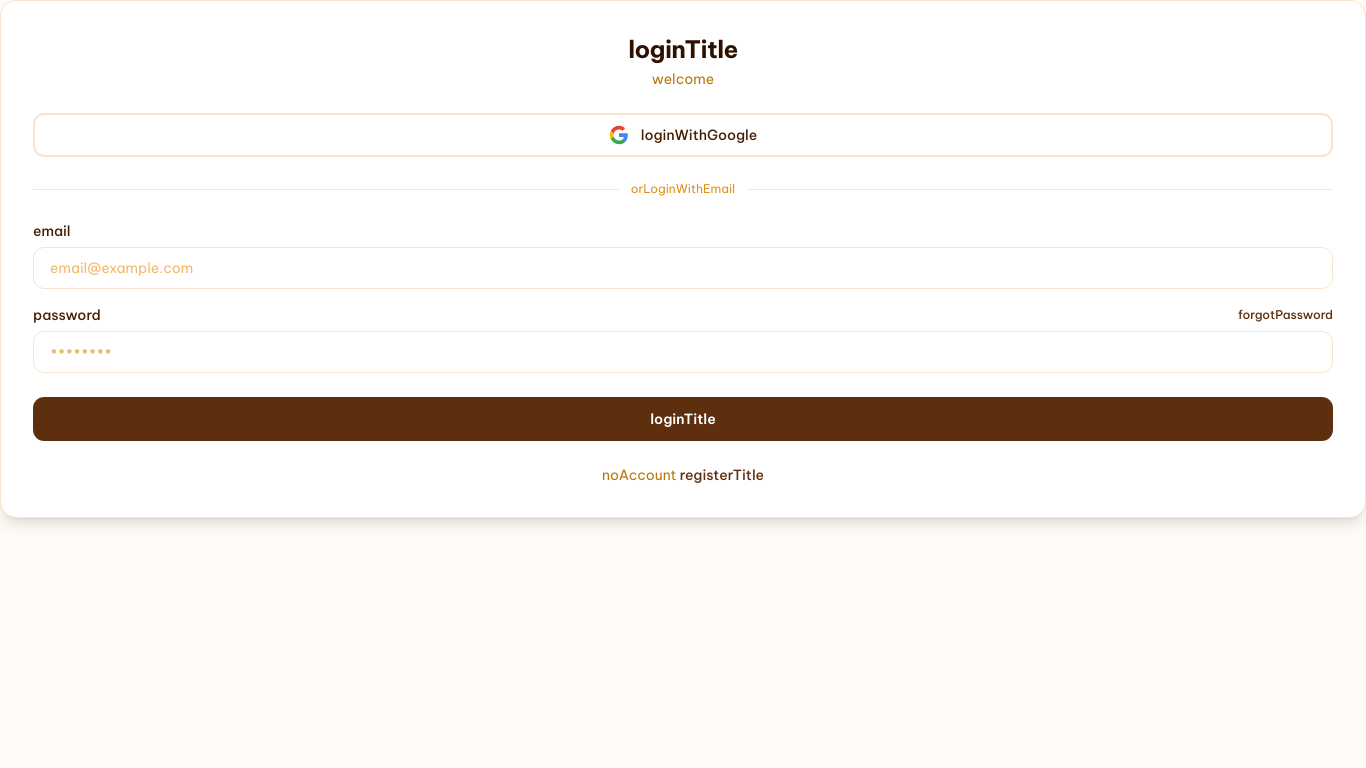
Test: LoginPage — Validation › hiển thị lỗi khi chỉ điền email, bỏ trống password
Type "test@example.com" into the field labelled "email" at (683, 268), box [33, 247, 1333, 289]
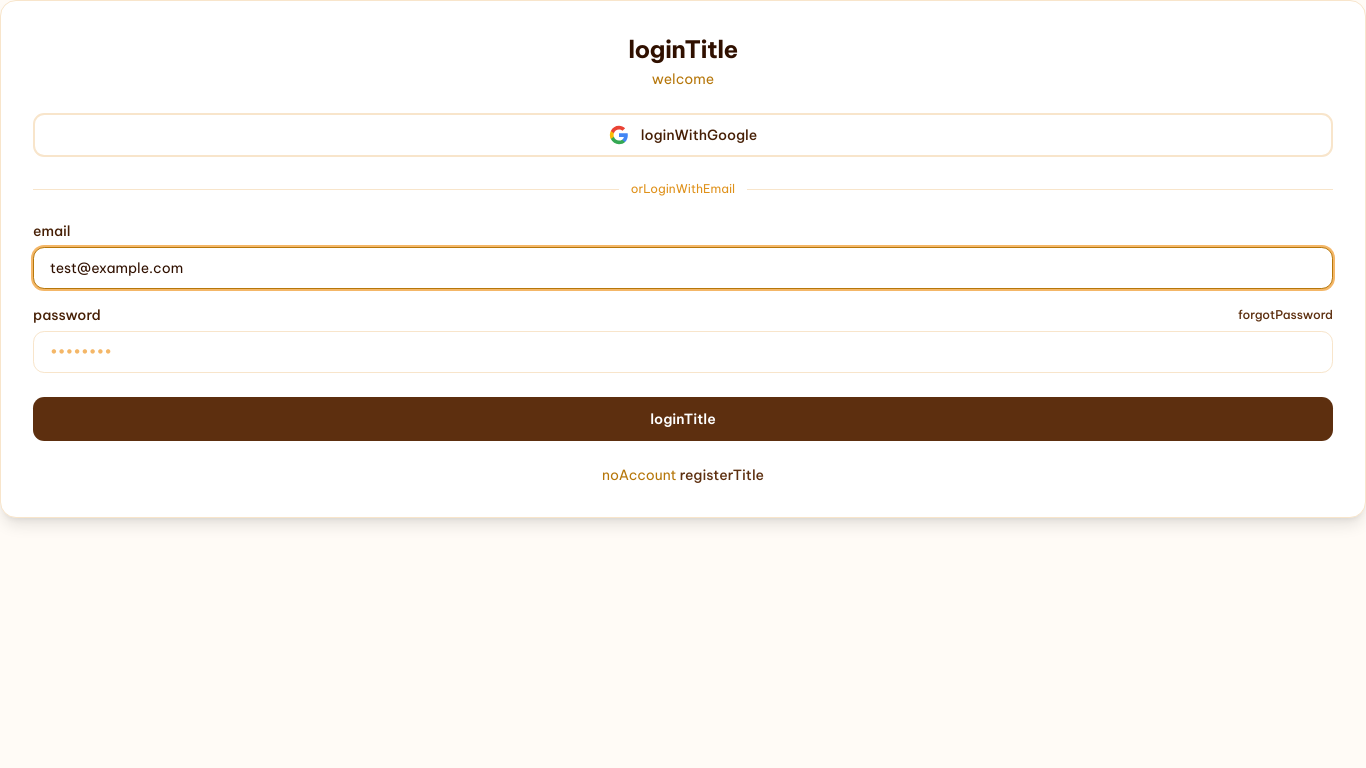
Click the button "loginTitle" at (683, 419), box [33, 397, 1333, 441]
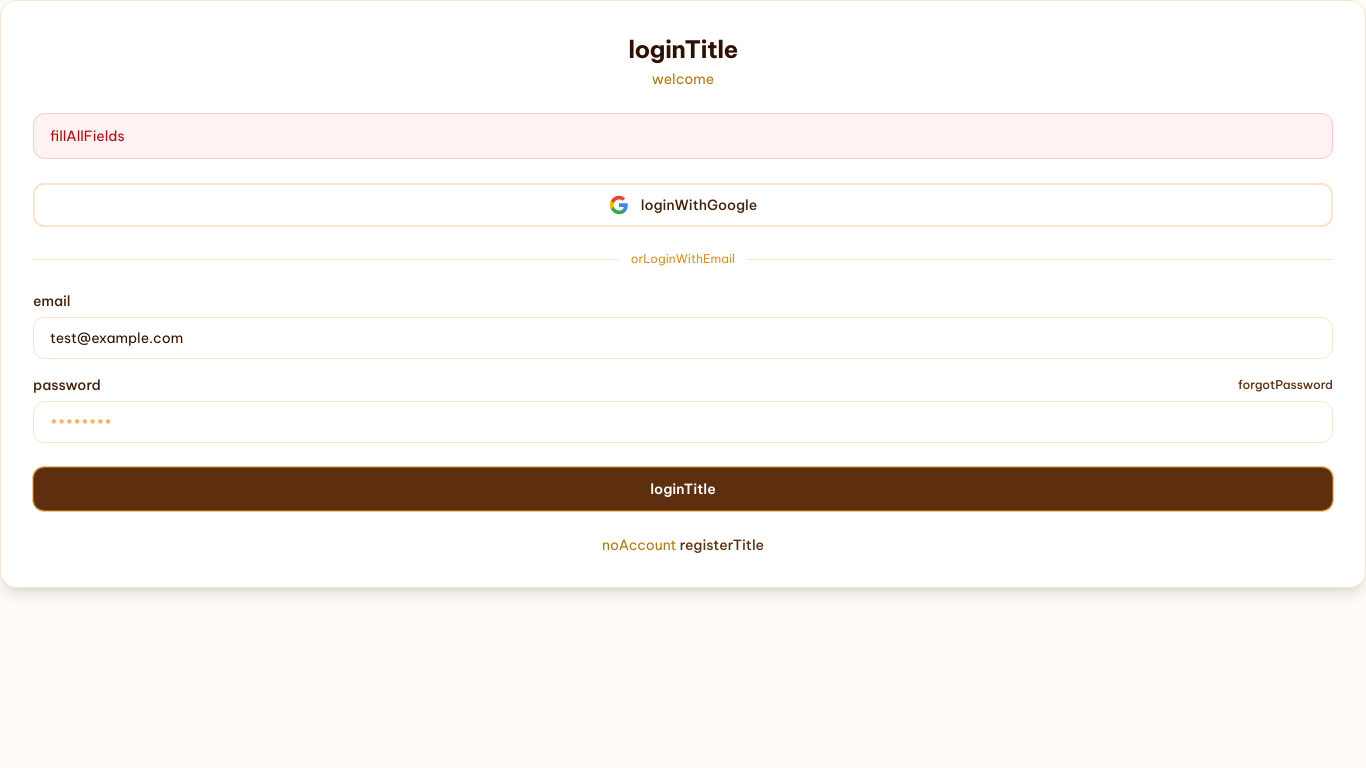
Check: the text "fillAllFields" is shown, box [33, 113, 1333, 159]
